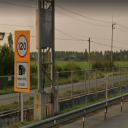speed_limit_120: (16, 30, 29, 60)
